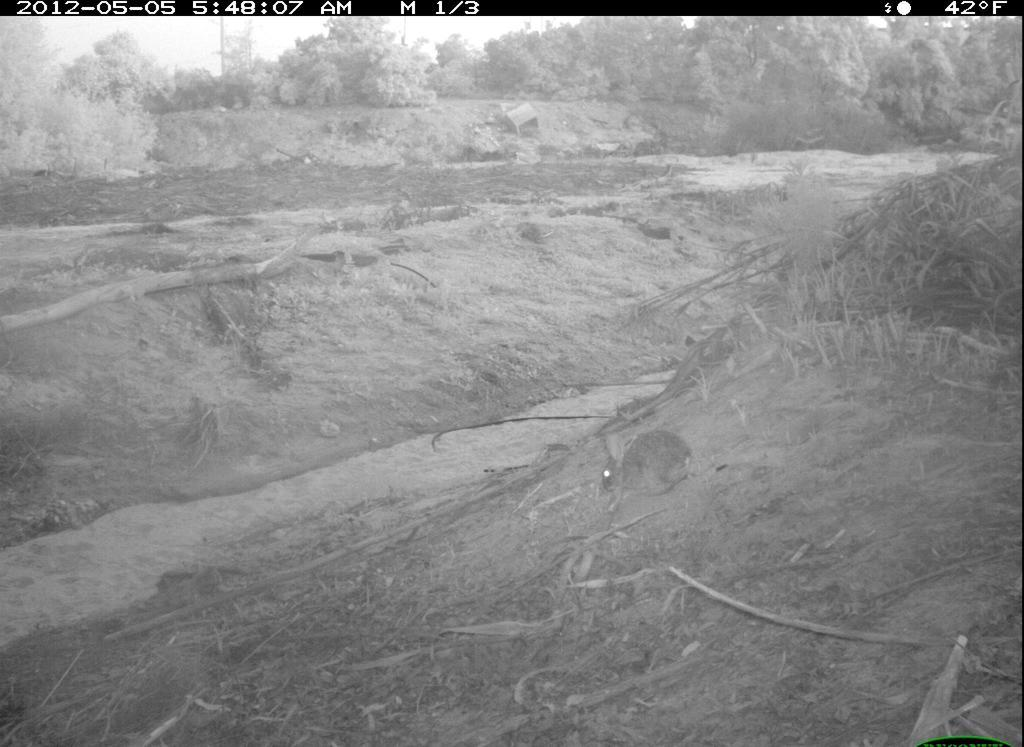rabbit: (592, 420, 696, 513)
